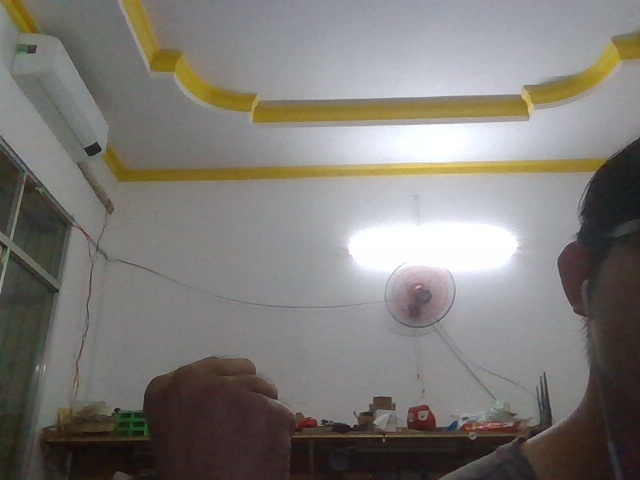fist: (116, 334, 317, 480)
